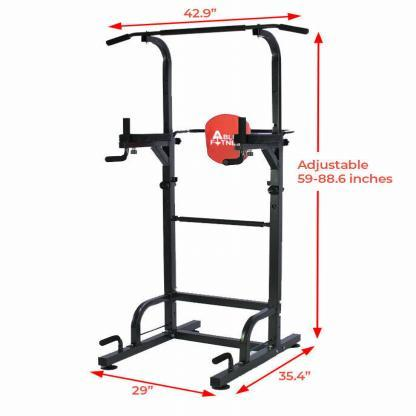chinning dipping: (102, 25, 310, 384)
